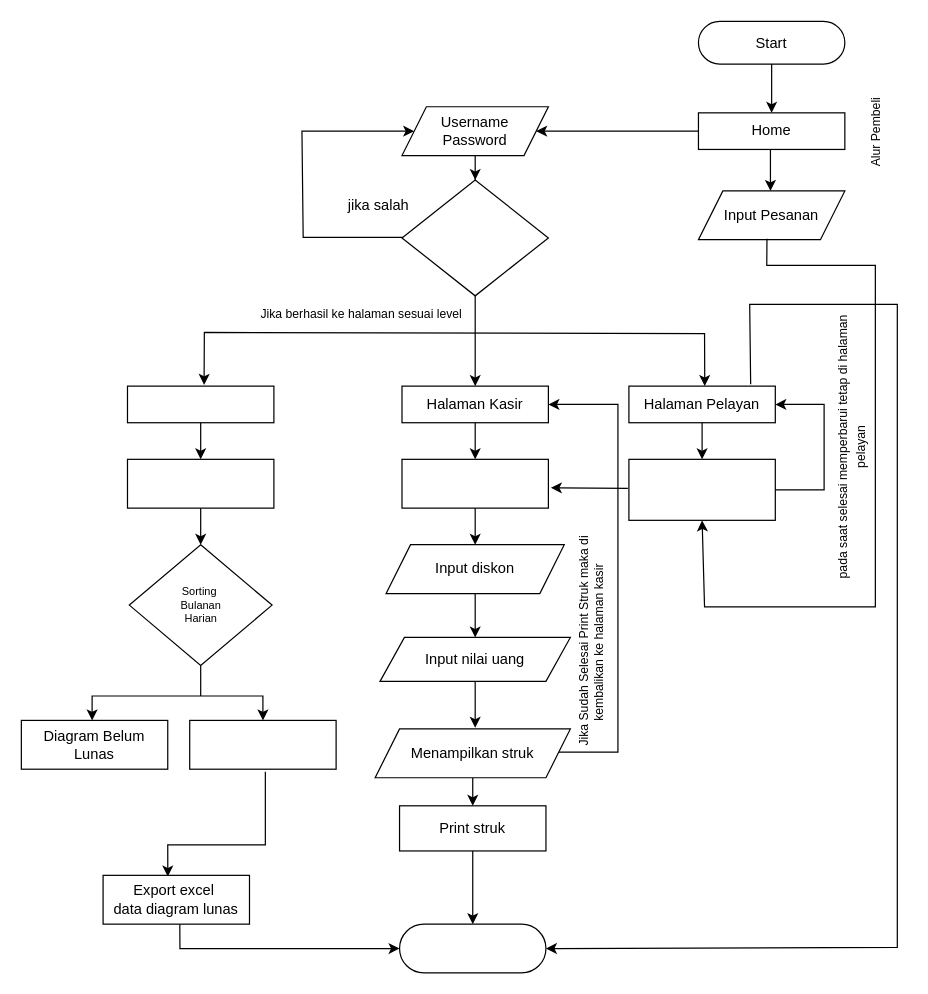
Some shapes in this 928 by 994 pixel diagram are drawn without their labels. The centre of each missing label's shape, as x and y in pixels:
"CRUD Produk, User, Hero" belongs at point (200, 483).
"Diagram Lunas" belongs at point (262, 744).
"END" belongs at point (472, 948).
"Halaman Admin" belongs at point (200, 404).
"Memperbarui Pembayaran" belongs at point (474, 483).
"Update Status pesanan" belongs at point (701, 489).
"Validasi" belongs at point (474, 237).
